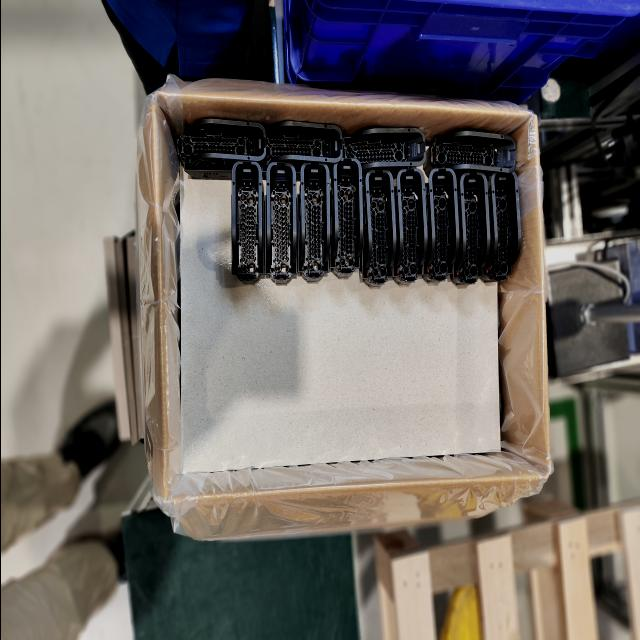P38: (176, 118, 266, 182), (256, 121, 342, 180), (421, 131, 516, 181), (479, 172, 521, 283), (449, 172, 490, 285), (421, 168, 458, 283), (341, 128, 425, 178), (391, 169, 427, 285), (361, 169, 396, 287), (230, 160, 263, 284), (329, 158, 362, 278), (296, 162, 329, 282), (264, 162, 296, 285)
